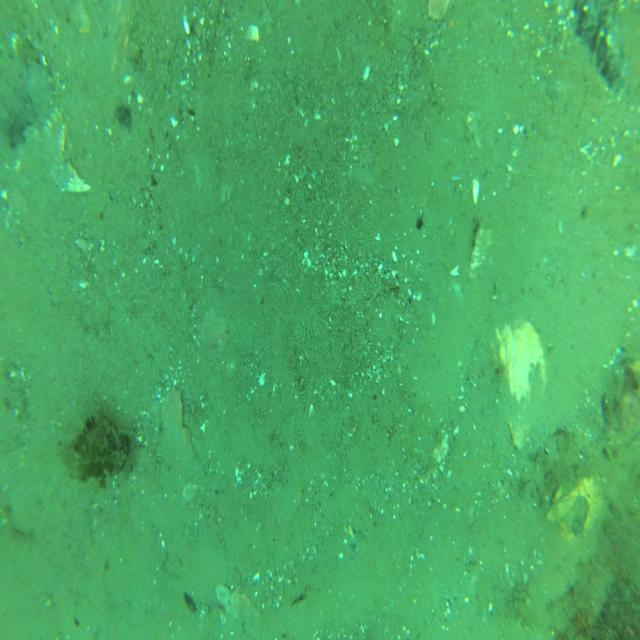scallop: (486, 318, 545, 454)
